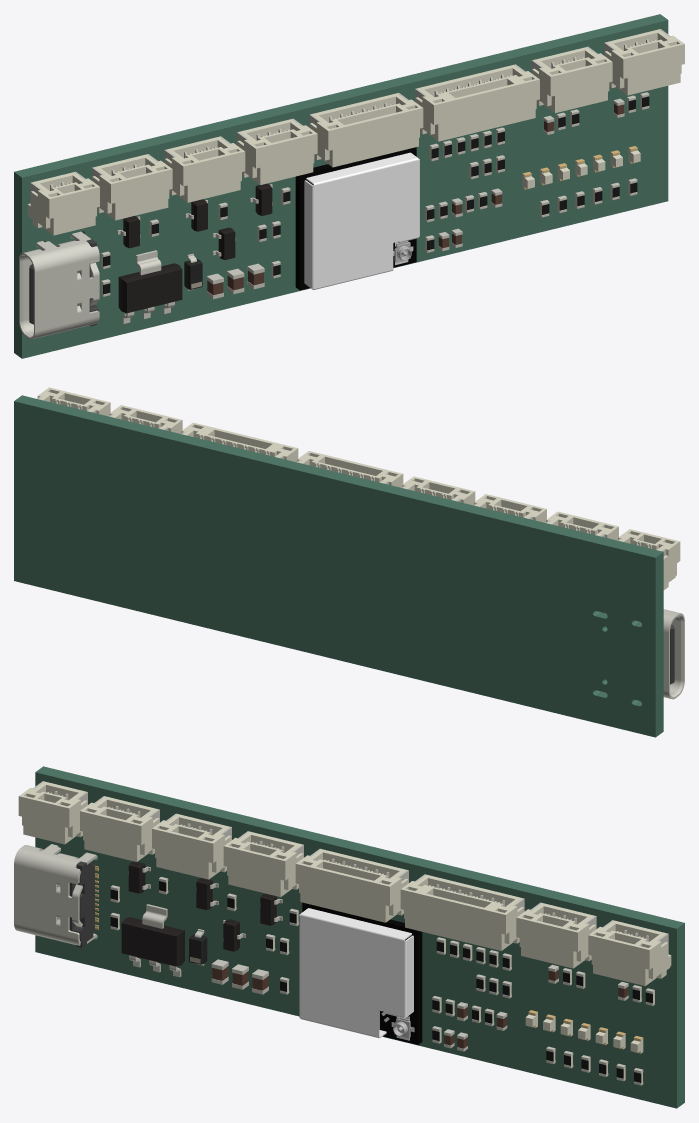
The model's file is board.glb.
3 renders of one model, top to bottom at view 1: azimuth 30°, elevation 25°; view 2: azimuth 150°, elevation 25°; view 3: azimuth 330°, elevation 25°, orthographic.
Visible parts, largest first — view 1: =>[0:1:1:28], =>[0:1:1:5]_097c04, =>[0:1:1:19]_e2ad37, =>[0:1:1:23]_9bca48, =>[0:1:1:25]_e62f49, =>[0:1:1:13]_35e53d, =>[0:1:1:13]_2_b6e68d, =>[0:1:1:13]_3_b5836e, =>[0:1:1:13]_1_eef59a, =>[0:1:1:13]_4_6323ad, =>[0:1:1:21]_39a30e, =>[0:1:1:15]_7a2389 (+3 smaller); view 2: =>[0:1:1:28], =>[0:1:1:23]_9bca48, =>[0:1:1:19]_e2ad37, =>[0:1:1:25]_e62f49, =>[0:1:1:21]_39a30e, =>[0:1:1:13]_2_b6e68d, =>[0:1:1:13]_3_b5836e, =>[0:1:1:13]_4_6323ad, =>[0:1:1:13]_1_eef59a, =>[0:1:1:13]_35e53d; view 3: =>[0:1:1:28], =>[0:1:1:5]_097c04, =>[0:1:1:23]_9bca48, =>[0:1:1:19]_e2ad37, =>[0:1:1:25]_e62f49, =>[0:1:1:13]_4_6323ad, =>[0:1:1:13]_3_b5836e, =>[0:1:1:13]_2_b6e68d, =>[0:1:1:13]_1_eef59a, =>[0:1:1:13]_35e53d, =>[0:1:1:21]_39a30e, =>[0:1:1:15]_7a2389 (+3 smaller).
Part boxes in pixels (x1,y1,x2,y2): =>[0:1:1:28]: (14,14,668,358); =>[0:1:1:5]_097c04: (304,152,419,289); =>[0:1:1:19]_e2ad37: (19,231,99,339); =>[0:1:1:23]_9bca48: (415,65,539,141); =>[0:1:1:25]_e62f49: (309,93,423,167); =>[0:1:1:13]_35e53d: (164,137,245,202); =>[0:1:1:13]_2_b6e68d: (237,119,317,184); =>[0:1:1:13]_3_b5836e: (532,47,612,113); =>[0:1:1:13]_1_eef59a: (92,154,172,220); =>[0:1:1:13]_4_6323ad: (604,29,684,95); =>[0:1:1:21]_39a30e: (27,172,99,235); =>[0:1:1:15]_7a2389: (118,263,182,313); =>[0:1:1:28]: (14,395,663,737); =>[0:1:1:23]_9bca48: (181,422,298,462); =>[0:1:1:19]_e2ad37: (602,609,684,701); =>[0:1:1:25]_e62f49: (297,451,403,487); =>[0:1:1:21]_39a30e: (618,529,680,589); =>[0:1:1:13]_2_b6e68d: (402,476,475,505); =>[0:1:1:13]_3_b5836e: (109,405,182,433); =>[0:1:1:13]_4_6323ad: (37,387,110,416); =>[0:1:1:13]_1_eef59a: (546,511,618,540); =>[0:1:1:13]_35e53d: (474,494,546,522); =>[0:1:1:28]: (35,766,684,1108); =>[0:1:1:5]_097c04: (299,908,413,1038); =>[0:1:1:23]_9bca48: (400,874,524,950); =>[0:1:1:19]_e2ad37: (14,844,97,945); =>[0:1:1:25]_e62f49: (295,849,408,922); =>[0:1:1:13]_4_6323ad: (588,920,671,985); =>[0:1:1:13]_3_b5836e: (516,903,596,968); =>[0:1:1:13]_2_b6e68d: (223,831,303,897); =>[0:1:1:13]_1_eef59a: (80,796,159,861); =>[0:1:1:13]_35e53d: (152,814,231,879); =>[0:1:1:21]_39a30e: (18,781,87,844); =>[0:1:1:15]_7a2389: (121,917,184,966).
Bounding box in the file's own units: 73.69 × 19.6 × 5.89.
